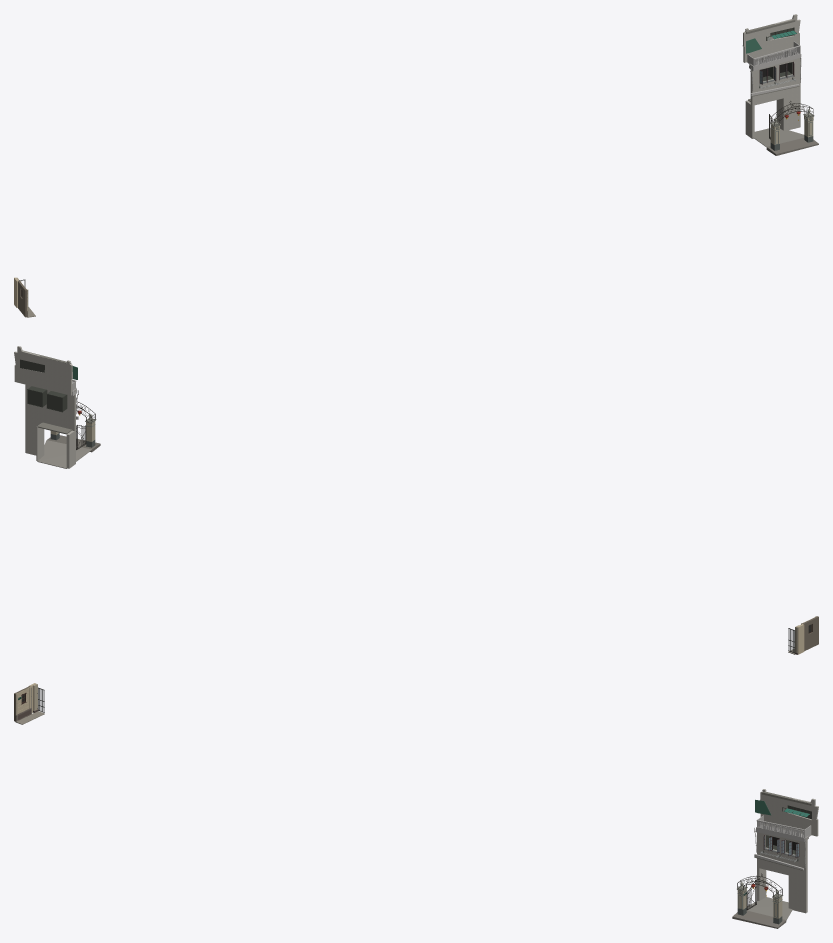
The model's file is huangpu-huanlong-nanchang-212-lane-front-web.glb.
3 renders of one model, top to bottom at view 1: azimuth 30°, elevation 25°; view 2: azimuth 150°, elevation 25°; view 3: azimuth 330°, elevation 25°, orthographic.
Parts seen in each view (by area): view 1: 南昌路212弄环龙别业门楼与244弄入口; view 2: 南昌路212弄环龙别业门楼与244弄入口; view 3: 南昌路212弄环龙别业门楼与244弄入口.
Boxes of the visible parts, box(x1,y1,x2,y2) form: 南昌路212弄环龙别业门楼与244弄入口: box(14, 14, 818, 317); 南昌路212弄环龙别业门楼与244弄入口: box(14, 346, 818, 654); 南昌路212弄环龙别业门楼与244弄入口: box(14, 683, 818, 928).
Size of the model in its own units: 89.21 by 11.79 by 7.75.
Materials: 46 (1 with a texture image).
